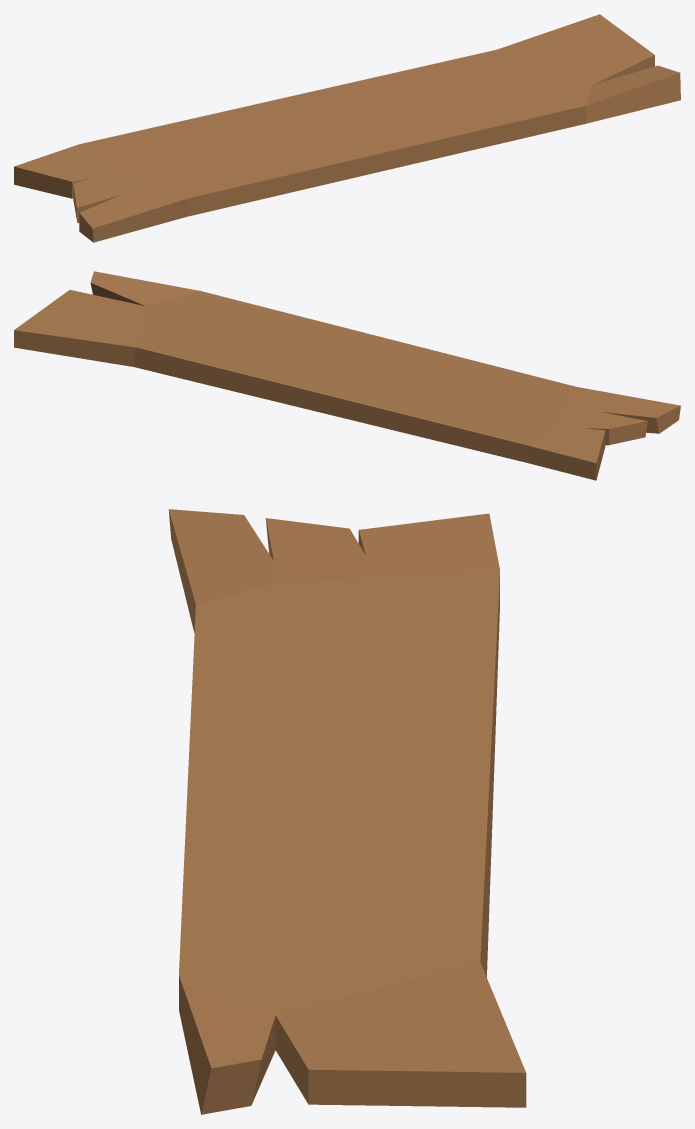
Rendered from plank04.fbx.
3 renders of one model, top to bottom at view 1: azimuth 30°, elevation 25°; view 2: azimuth 150°, elevation 25°; view 3: azimuth 270°, elevation 25°, orthographic. The views are drawn at different scales.
Parts seen in each view (by area): view 1: Plane.001; view 2: Plane.001; view 3: Plane.001.
Part boxes in pixels (x1,y1,x2,y2): Plane.001: (14,14,680,242); Plane.001: (14,271,680,480); Plane.001: (168,509,526,1114).
Bounding box in the file's own units: 7.88 × 0.3666 × 2.11.
